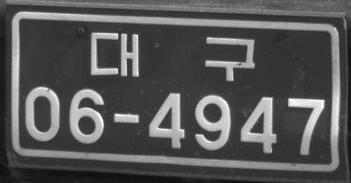0: (24, 84, 60, 143)
4: (241, 96, 276, 153), (149, 93, 184, 148)
6: (68, 87, 104, 144)
7: (286, 96, 325, 155)
9: (194, 94, 231, 150)
대구_D: (90, 31, 255, 81)
